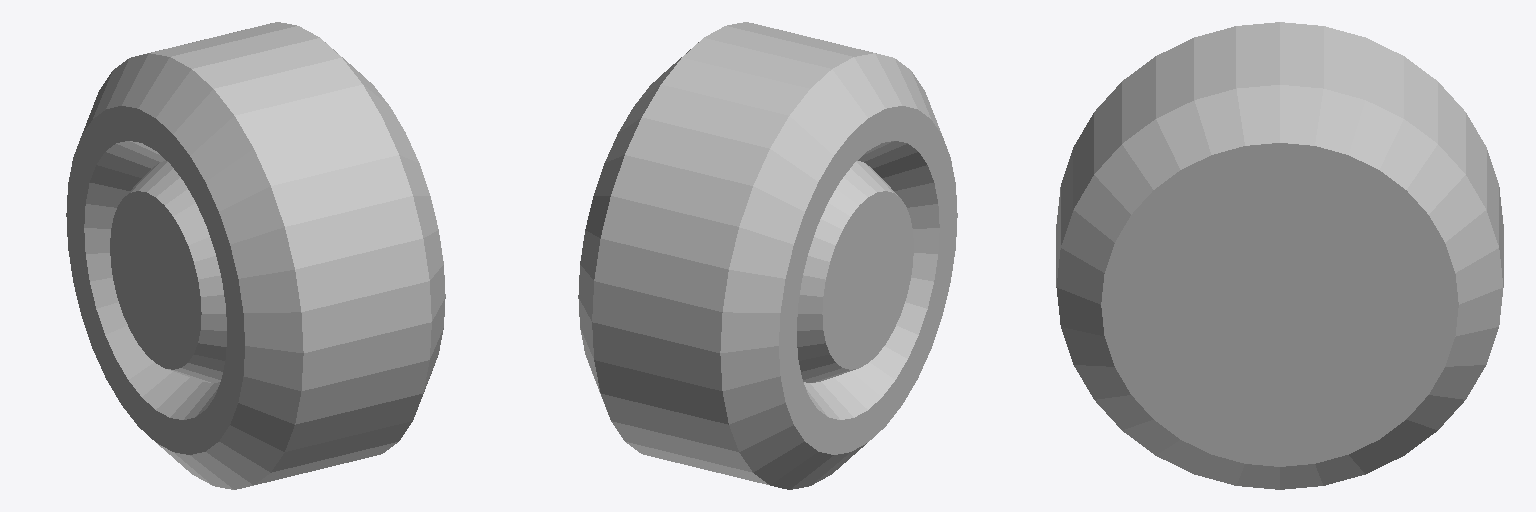
Rendered from wheel.obj.
3 views of the same model, side by side, from view 1: azimuth 30°, elevation 25°; view 2: azimuth 150°, elevation 25°; view 3: azimuth 270°, elevation 25° (orthographic).
Visible parts, largest first — view 1: RearWheel.003_Cylinder.004; view 2: RearWheel.003_Cylinder.004; view 3: RearWheel.003_Cylinder.004.
Part boxes in pixels (x1,y1,x2,y2): RearWheel.003_Cylinder.004: (66, 22, 445, 489); RearWheel.003_Cylinder.004: (578, 22, 957, 489); RearWheel.003_Cylinder.004: (1056, 22, 1503, 489).
Bounding box in the file's own units: 0.5993 × 1.16 × 1.16.